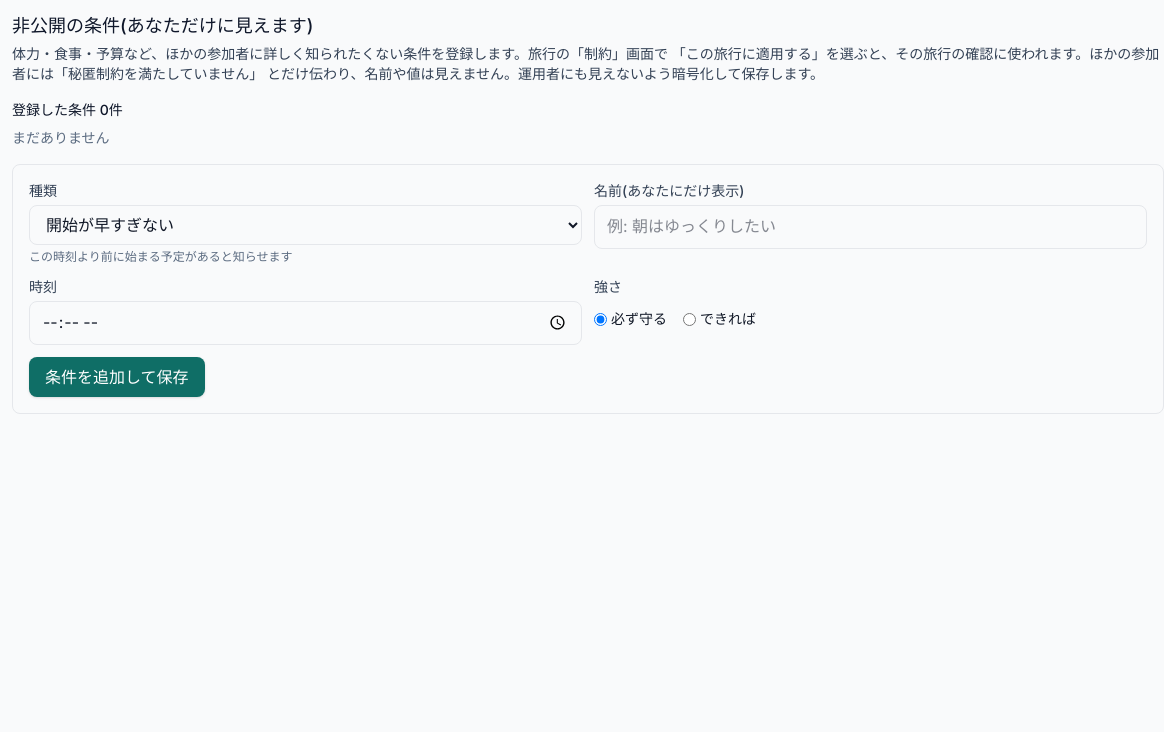
Test case: PrivateProfileSection (Gate C1 FR-023) › 条件を追加して版を付けて保存し、一覧と適用中の旅行を示す
This screenshot has width=1164, height=732.
Check: the text "まだありません" is shown, box x1=12 y1=129 x2=110 y2=146
In the field labelled "名前(あなたにだけ表示)": point(870, 227) x1=594 y1=205 x2=1147 y2=249, type "朝はゆっくりしたい"
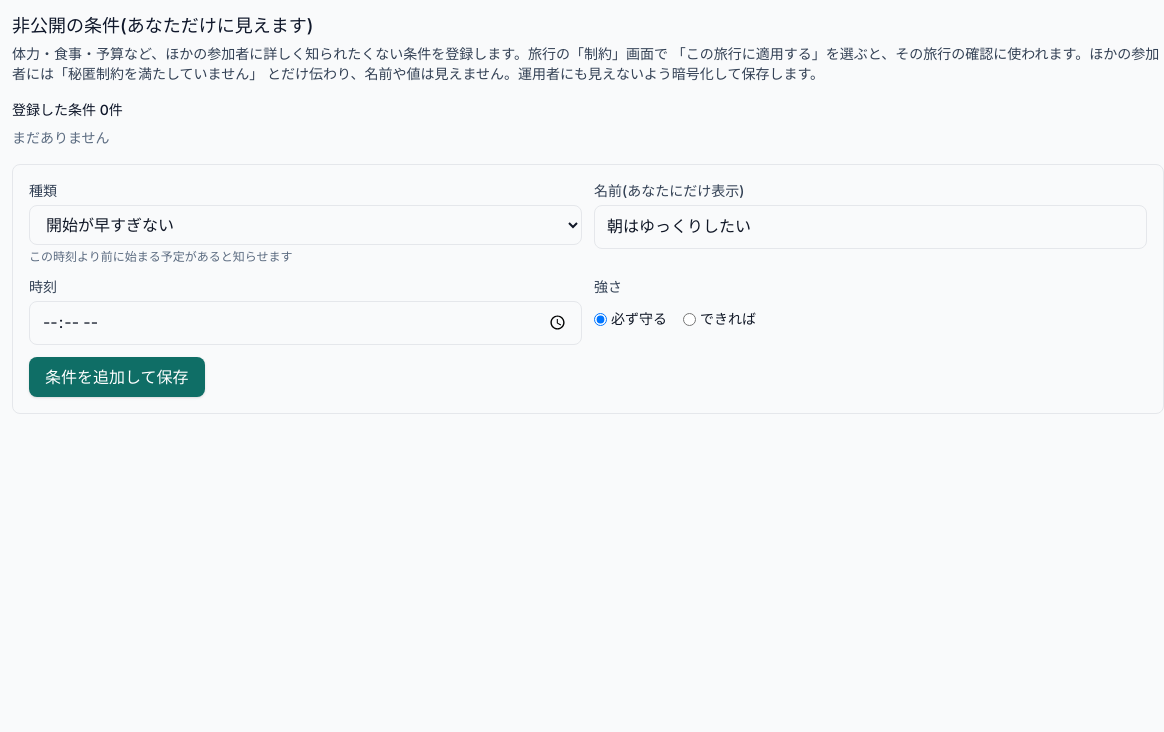
In the time field labelled "時刻": point(306, 323) x1=29 y1=301 x2=582 y2=345, type "11:00"
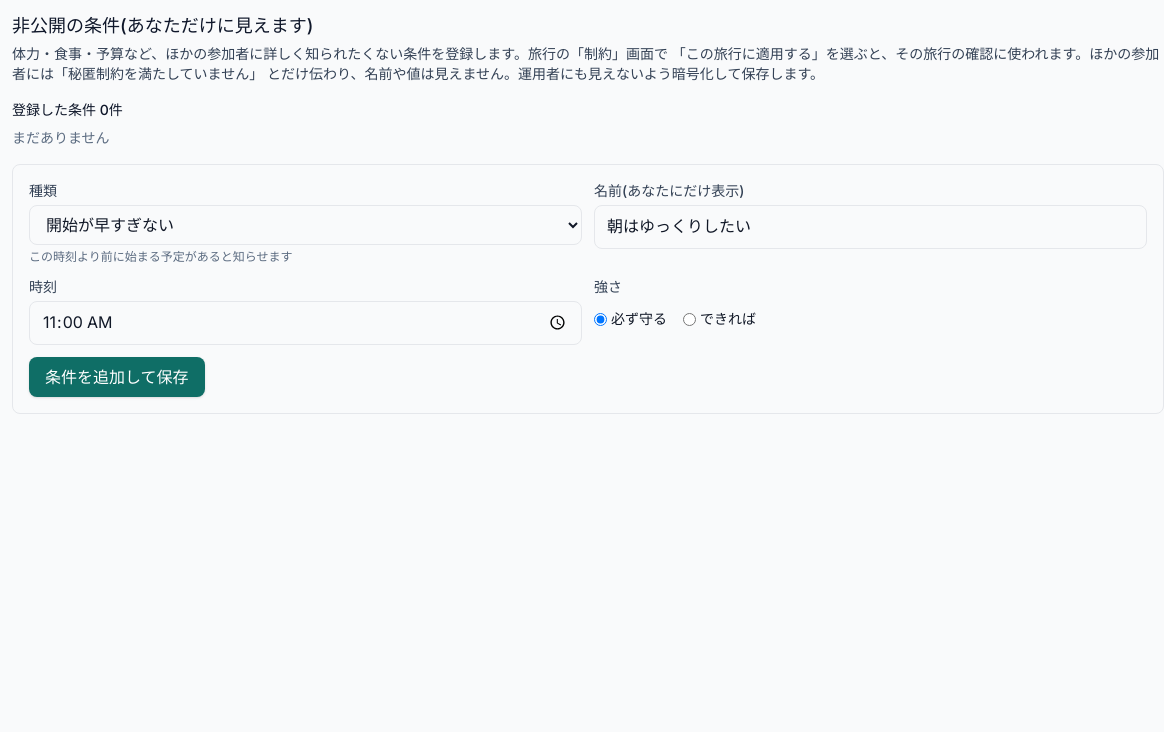
Click the button "条件を追加して保存": point(117, 377) x1=29 y1=357 x2=204 y2=397
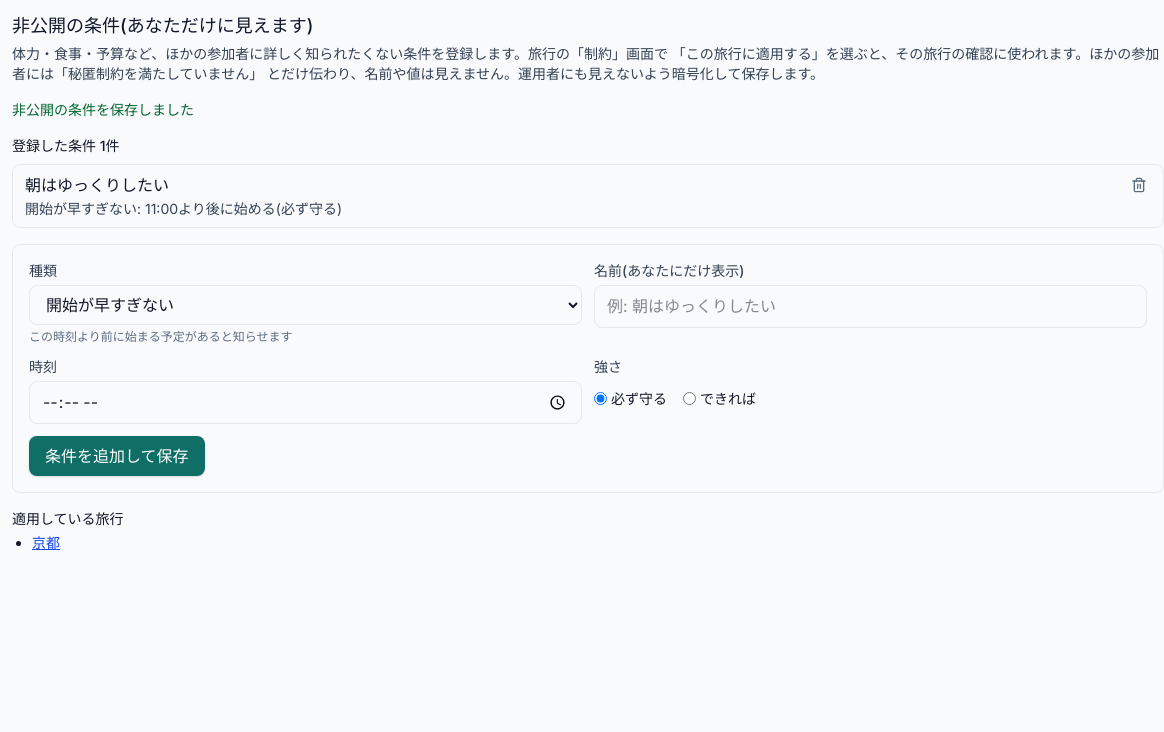
Check: the list named "登録した非公開の条件" shows "11:00より後に始める", box x1=25 y1=200 x2=342 y2=217
